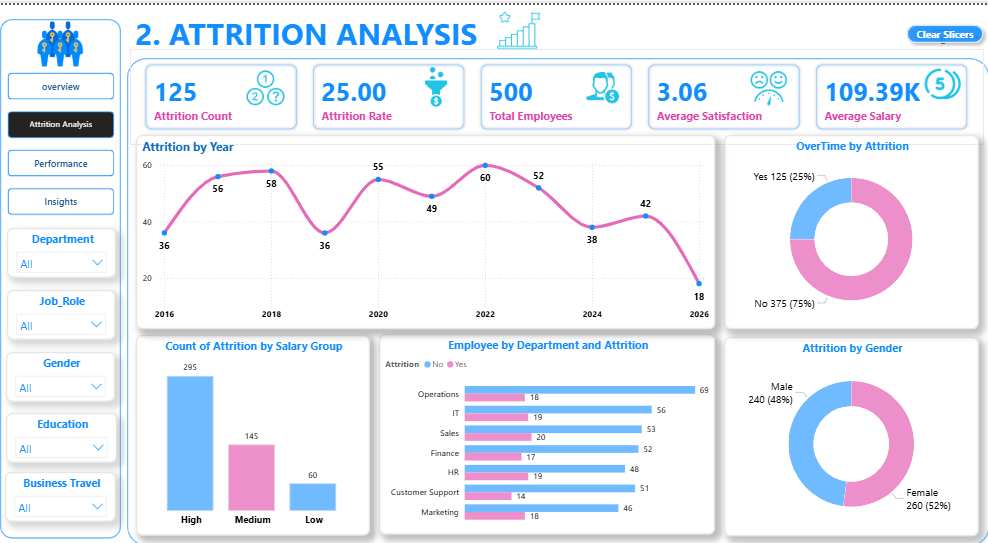

What the dashboard file says about the page in this screenshot:
{"tool":"powerbi","page":{"name":"Attrition Analysis","canvas":[1580,860],"ordinal":1},"visuals":[{"type":"shape","box":[0,22.2,192.1,824.5],"z":0},{"type":"shape","box":[201,83.9,1368.7,774.3],"z":1000},{"type":"textbox","box":[209,6.9,569.1,76.5],"z":2000},{"type":"slicer","title":"Education","fields":{"Values":["Sheet1.Education"]},"box":[9.3,647.8,176.2,78.8],"z":3000},{"type":"cardVisual","fields":{"Data":["Sheet1.Attrition Count","Sheet1.Attrition Rate","Sheet1.Total Employees","Sheet1.Average Satisfaction","Sheet1.Average Salary"]},"box":[206.3,69.9,1354.7,152.1],"z":4000},{"type":"clusteredBarChart","title":"Employee by Department and Attrition","fields":{"Y":["CountNonNull(Sheet1.Employee_ID)"],"Category":["Sheet1.Department"],"Series":["Sheet1.Attrition"]},"box":[601.3,522.6,533.1,318.1],"z":5000},{"type":"donutChart","title":"Attrition by Gender","fields":{"Category":["Sheet1.Gender"],"Y":["CountNonNull(Sheet1.Attrition)"]},"box":[1148.4,526.1,403.8,316.4],"z":6000},{"type":"donutChart","title":"OverTime by Attrition","fields":{"Category":["Sheet1.Attrition"],"Y":["CountNonNull(Sheet1.OverTime)"]},"box":[1148.4,206.3,403.8,307.6],"z":7000},{"type":"columnChart","fields":{"Category":["Sheet1.Salary Group"],"Y":["CountNonNull(Sheet1.Attrition)"]},"box":[215,524.4,370.6,318.1],"z":8000},{"type":"lineChart","title":" Attrition by Year","fields":{"Y":["CountNonNull(Sheet1.Attrition)"],"Category":["Sheet1.Hiring_Date.Variation.Date Hierarchy.Year"]},"box":[215,206.3,919.4,307.6],"z":9000},{"type":"slicer","title":"Department","fields":{"Values":["Sheet1.Department"]},"box":[10.8,354.1,173.1,78.8],"z":10000},{"type":"slicer","title":"Gender","fields":{"Values":["Sheet1.Gender"]},"box":[9.3,550.4,173.1,78.8],"z":11000},{"type":"slicer","title":"Job_Role","fields":{"Values":["Sheet1.Job_Role"]},"box":[10.8,451.5,171.5,78.8],"z":12000},{"type":"slicer","title":"Business Travel","fields":{"Values":["Sheet1.Business_Travel"]},"box":[8.6,740.8,176.2,79.5],"z":13000},{"type":"pageNavigator","box":[10.4,107.1,171,228],"z":14000},{"type":"actionButton","box":[1429.8,22.7,139.8,47.2],"z":15000},{"type":"image","box":[36.9,22.7,117.9,79.2],"z":16000},{"type":"image","box":[650.2,97.9,82.2,62.9],"z":17000},{"type":"image","box":[1461.3,94.4,68.2,62.9],"z":18000},{"type":"image","box":[1188.6,99.6,62.9,62.9],"z":19000},{"type":"image","box":[928.2,99.6,54.2,57.7],"z":20000},{"type":"image","box":[381.1,99.6,80.4,62.9],"z":21000},{"type":"image","box":[759.4,6.9,125.7,68],"z":22000}]}

Visuals, with their boxes in screenshot pixels (x1, y1, x2, y2), scaled from the page's 1580x860 canvas onto the 988x543 screenshot:
shape: 0/14/120/535
shape: 126/53/982/542
textbox: 131/4/487/53
"Education" slicer: 6/409/116/459
cardVisual - Sheet1.Attrition Count x Sheet1.Attrition Rate: 129/44/976/140
"Employee by Department and Attrition" clusteredBarChart: 376/330/709/531
"Attrition by Gender" donutChart: 718/332/971/532
"OverTime by Attrition" donutChart: 718/130/971/324
columnChart - Sheet1.Salary Group x CountNonNull(Sheet1.Attrition): 134/331/366/532
" Attrition by Year" lineChart: 134/130/709/324
"Department" slicer: 7/224/115/273
"Gender" slicer: 6/348/114/397
"Job_Role" slicer: 7/285/114/335
"Business Travel" slicer: 5/468/116/518
pageNavigator: 7/68/113/212
actionButton: 894/14/981/44
image: 23/14/97/64
image: 407/62/458/102
image: 914/60/956/99
image: 743/63/783/103
image: 580/63/614/99
image: 238/63/289/103
image: 475/4/553/47
